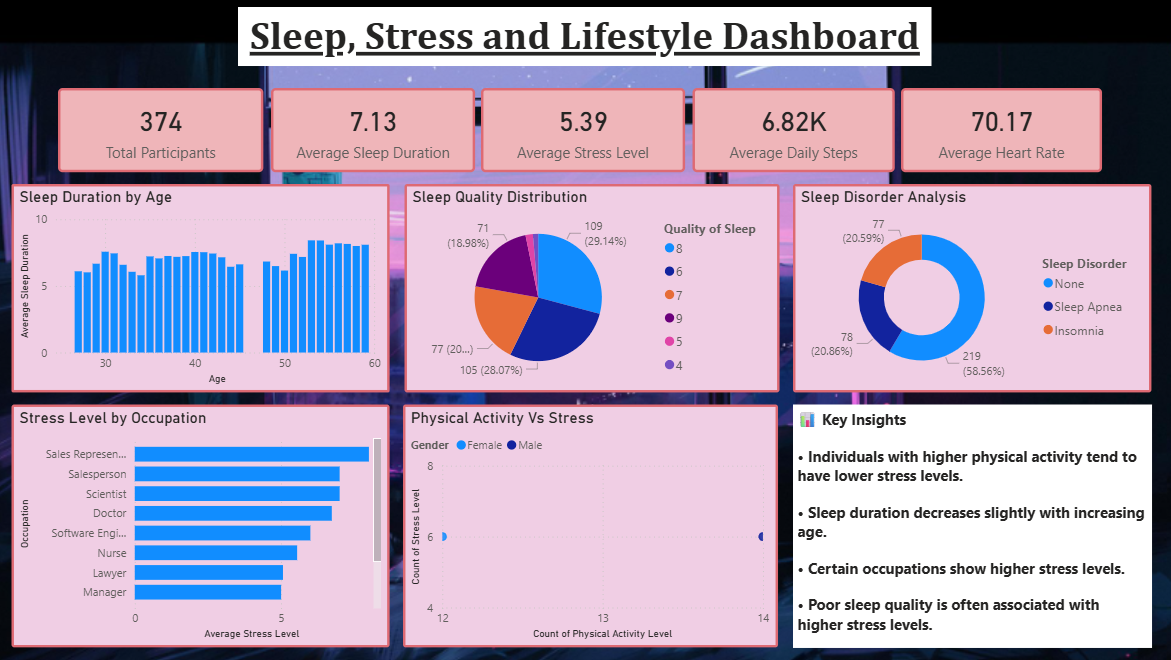

The dashboard page shown, as its layout file describes it:
{"tool":"powerbi","page":{"name":"Page 1","canvas":[1280,720],"ordinal":0},"visuals":[{"type":"card","fields":{"Values":["Sleep Data.Total Participants"]},"box":[68.3,97.6,222.8,91.1],"z":0},{"type":"textbox","box":[263.9,9.4,752.1,64.3],"z":1000},{"type":"card","fields":{"Values":["Sleep Data.Average Sleep Duration"]},"box":[298.5,97.6,221.2,91.1],"z":2000},{"type":"card","fields":{"Values":["Sleep Data.Average Stress Level"]},"box":[527,97.6,221.2,91.1],"z":3000},{"type":"card","fields":{"Values":["Sleep Data.Average Daily Steps"]},"box":[755.5,97.6,219.6,91.1],"z":4000},{"type":"card","fields":{"Values":["Sleep Data.Average Heart Rate"]},"box":[982.4,97.6,218,91.1],"z":5000},{"type":"columnChart","title":"Sleep Duration by Age","fields":{"Category":["Sleep Data.Age"],"Y":["Sleep Data.Average Sleep Duration"]},"box":[17.9,201.7,409.9,226.1],"z":6000},{"type":"barChart","title":"Stress Level by Occupation","fields":{"Category":["Sleep Data.Occupation"],"Y":["Sleep Data.Average Stress Level"]},"box":[17.9,440.8,409.9,263.5],"z":7000},{"type":"pieChart","title":"Sleep Quality Distribution","fields":{"Category":["Sleep Data.Quality of Sleep"],"Y":["CountNonNull(Sleep Data.Person ID)"]},"box":[443.2,201.7,406.6,226.1],"z":8000},{"type":"scatterChart","title":"Physical Activity Vs Stress","fields":{"X":["Count(Sleep Data.Physical Activity Level)"],"Y":["Count(Sleep Data.Stress Level)"],"Series":["Sleep Data.Gender"]},"box":[443.1,440.8,406.6,263.5],"z":9000},{"type":"donutChart","title":"Sleep Disorder Analysis","fields":{"Category":["Sleep Data.Sleep Disorder"],"Y":["CountNonNull(Sleep Data.Person ID)"]},"box":[865.3,201.7,388.7,226.1],"z":10000},{"type":"textbox","box":[865,441,389,264],"z":11000}]}

Visuals, with their boxes in screenshot pixels (x1, y1, x2, y2), scaled from the page's 1280x720 canvas onto the 1171x660 screenshot:
card - Sleep Data.Total Participants: l=62, t=89, r=266, b=173
textbox: l=241, t=9, r=929, b=68
card - Sleep Data.Average Sleep Duration: l=273, t=89, r=475, b=173
card - Sleep Data.Average Stress Level: l=482, t=89, r=684, b=173
card - Sleep Data.Average Daily Steps: l=691, t=89, r=892, b=173
card - Sleep Data.Average Heart Rate: l=899, t=89, r=1098, b=173
"Sleep Duration by Age" columnChart: l=16, t=185, r=391, b=392
"Stress Level by Occupation" barChart: l=16, t=404, r=391, b=646
"Sleep Quality Distribution" pieChart: l=405, t=185, r=777, b=392
"Physical Activity Vs Stress" scatterChart: l=405, t=404, r=777, b=646
"Sleep Disorder Analysis" donutChart: l=792, t=185, r=1147, b=392
textbox: l=791, t=404, r=1147, b=646
